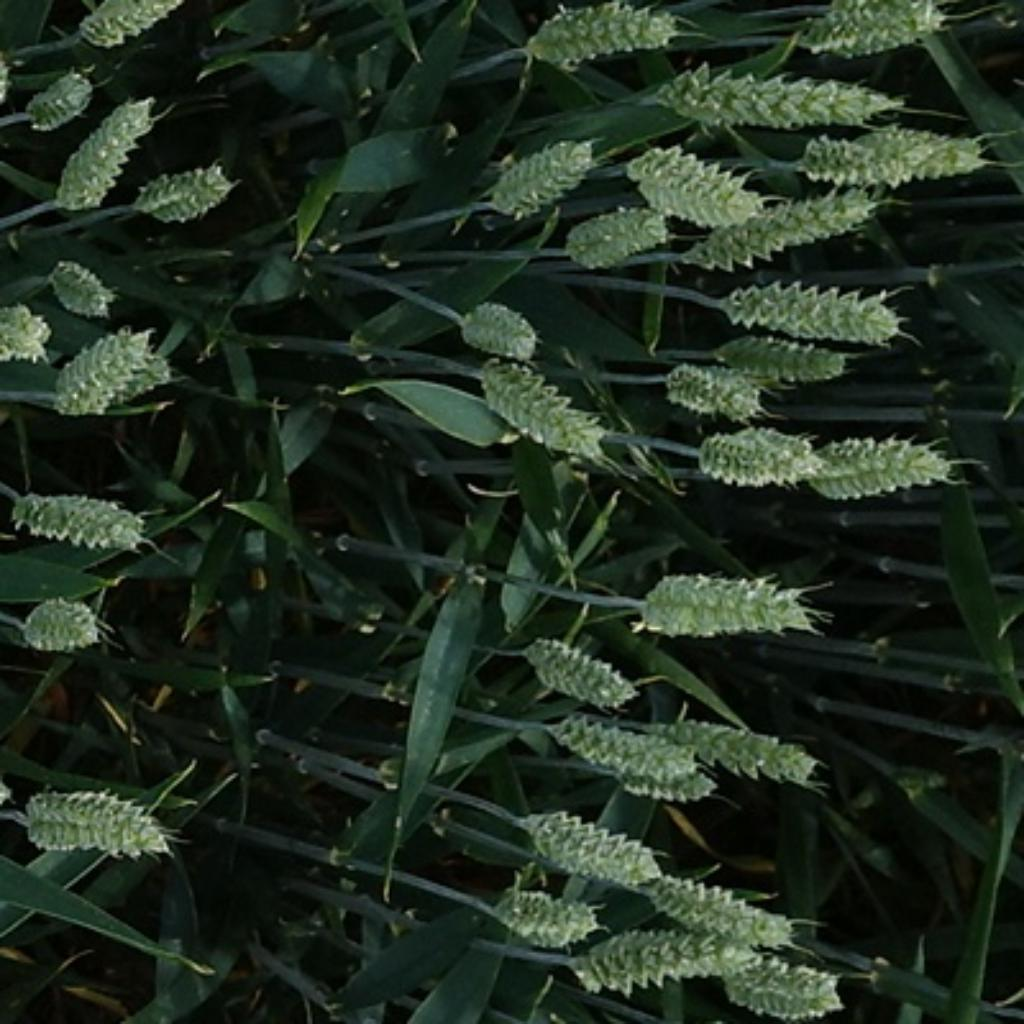0-0: (662, 58, 914, 137), (675, 186, 878, 276), (619, 555, 821, 645), (474, 347, 615, 462), (18, 777, 183, 873), (788, 117, 998, 192), (716, 271, 916, 348), (568, 916, 744, 998), (545, 706, 706, 793), (512, 803, 663, 885), (48, 92, 153, 209), (637, 865, 791, 944), (807, 426, 971, 500), (524, 2, 698, 71), (619, 143, 765, 225), (43, 322, 166, 419), (0, 478, 156, 552), (514, 624, 645, 709), (711, 944, 852, 1021), (670, 716, 832, 783), (483, 128, 596, 215), (604, 732, 727, 811), (691, 422, 826, 488), (801, 2, 949, 61), (128, 153, 240, 225), (560, 194, 668, 268), (655, 350, 762, 422), (711, 335, 867, 384), (486, 883, 599, 949), (12, 590, 115, 656), (455, 300, 545, 361), (81, 2, 179, 53), (23, 64, 97, 130), (47, 255, 119, 316), (0, 304, 58, 363)
